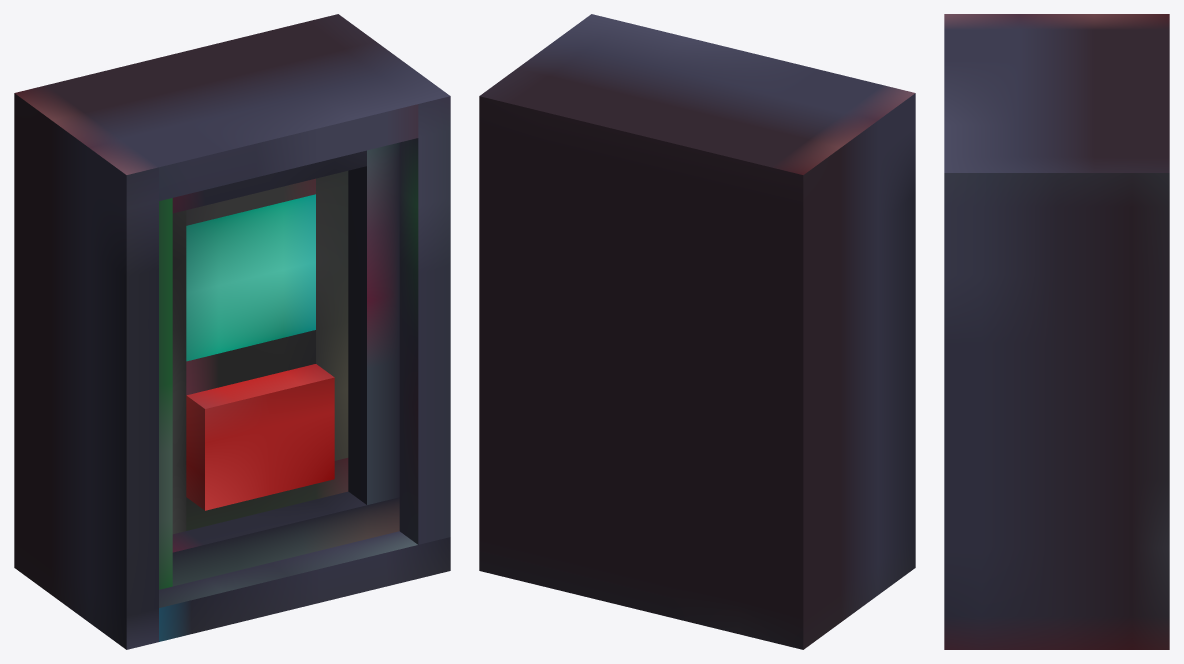
Rendered from FuseBox_B_00.fbx.
3 views of the same model, side by side, from view 1: azimuth 30°, elevation 25°; view 2: azimuth 150°, elevation 25°; view 3: azimuth 270°, elevation 25° (orthographic).
Visible parts, largest first — view 1: FuseBox_B_00; view 2: FuseBox_B_00; view 3: FuseBox_B_00.
Part boxes in pixels (bbox=[...]): FuseBox_B_00: bbox=[14, 14, 450, 649]; FuseBox_B_00: bbox=[479, 14, 915, 649]; FuseBox_B_00: bbox=[944, 14, 1169, 649].
Bounding box in the file's own units: 50 × 70 × 30.
